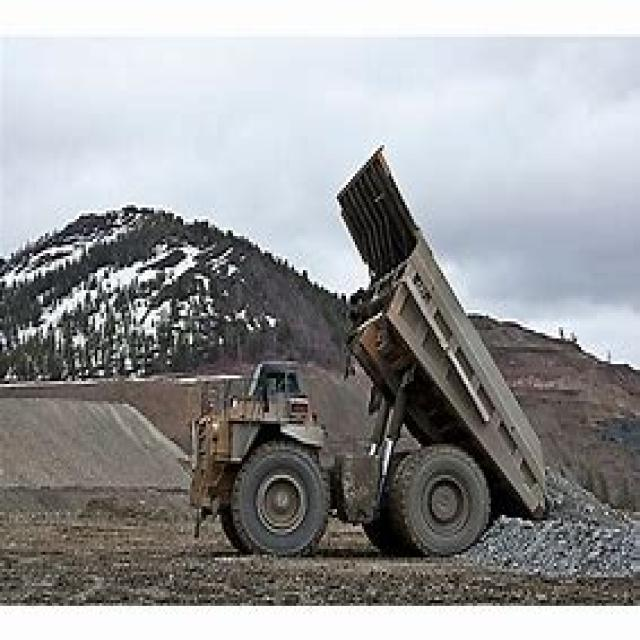dump_truck: (172, 136, 565, 552)
